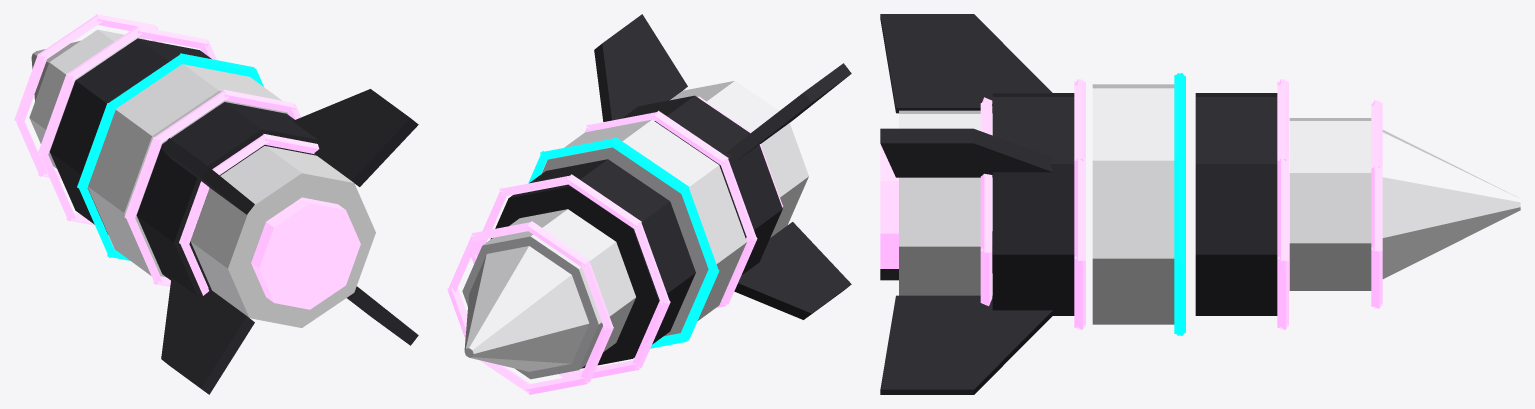
The model's file is Proj_SwarmPod.fbx.
3 views of the same model, side by side, from view 1: azimuth 30°, elevation 25°; view 2: azimuth 150°, elevation 25°; view 3: azimuth 270°, elevation 25° (orthographic). The views are drawn at different scales.
Parts seen in each view (by area): view 1: SPod_Seg0, SPod_Seg2, SPod_Seg1, SPod_Exhaust, SPod_Seg3, SPod_Fin1, SPod_Fin3, SPod_Band2, SPod_Band3, SPod_Band1, SPod_Seg4, SPod_Band4 (+4 smaller); view 2: SPod_Seg3, SPod_Nose, SPod_Seg2, SPod_Seg4, SPod_Seg1, SPod_Fin1, SPod_Fin3, SPod_Seg0, SPod_Band4, SPod_Band3, SPod_Band2, SPod_Band1 (+1 smaller); view 3: SPod_Seg2, SPod_Seg3, SPod_Seg1, SPod_Seg4, SPod_Fin0, SPod_Fin2, SPod_Nose, SPod_Seg0, SPod_Fin3, SPod_Band2, SPod_Band1, SPod_Band3 (+3 smaller).
Boxes of the visible parts, box(x1,y1,x2,y2) form: SPod_Seg0: box(190, 146, 375, 327); SPod_Seg2: box(88, 64, 288, 277); SPod_Seg1: box(136, 102, 317, 295); SPod_Exhaust: box(251, 197, 360, 309); SPod_Seg3: box(50, 38, 211, 233); SPod_Fin1: box(161, 277, 254, 394); SPod_Fin3: box(293, 89, 418, 186); SPod_Band2: box(77, 53, 263, 260); SPod_Band3: box(37, 26, 216, 225); SPod_Band1: box(124, 89, 301, 286); SPod_Seg4: box(29, 29, 147, 168); SPod_Band4: box(14, 14, 163, 179); SPod_Seg3: box(490, 159, 695, 368); SPod_Nose: box(464, 246, 589, 371); SPod_Seg2: box(541, 119, 746, 336); SPod_Seg4: box(462, 209, 635, 379); SPod_Seg1: box(622, 95, 782, 275); SPod_Fin1: box(734, 222, 851, 319); SPod_Fin3: box(594, 14, 687, 121); SPod_Seg0: box(670, 81, 808, 237); SPod_Band4: box(447, 221, 613, 394); SPod_Band3: box(471, 174, 670, 378); SPod_Band2: box(528, 137, 719, 348); SPod_Band1: box(585, 110, 757, 307); SPod_Seg2: box(1092, 84, 1174, 324); SPod_Seg3: box(1195, 93, 1277, 315); SPod_Seg1: box(992, 93, 1074, 315); SPod_Seg4: box(1289, 118, 1371, 290); SPod_Fin0: box(880, 295, 1052, 394); SPod_Fin2: box(880, 14, 1052, 113); SPod_Nose: box(1382, 130, 1520, 278); SPod_Seg0: box(899, 110, 980, 295); SPod_Fin3: box(880, 128, 1052, 177); SPod_Band2: box(1174, 73, 1185, 335); SPod_Band1: box(1074, 79, 1085, 329); SPod_Band3: box(1277, 79, 1288, 329).
Bounding box in the file's own units: 0.9404 × 0.9405 × 2.05.
